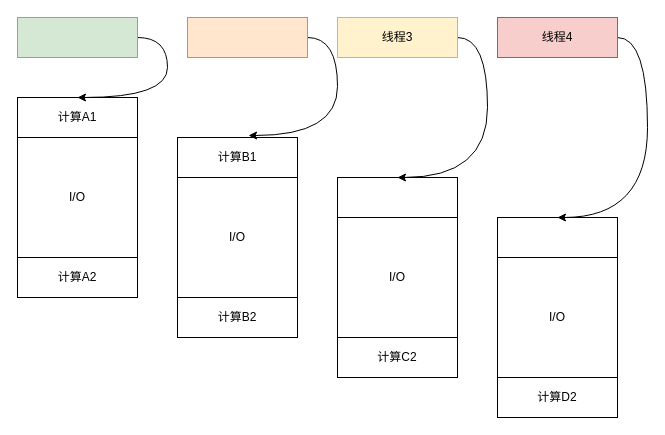
Image size: 665x435. Some labels were removed from this diagram. Each missing label, with the centre of its shape:
"线程1" belongs at point (77, 37).
"线程2" belongs at point (247, 37).
"计算C1" belongs at point (397, 197).
"计算D1" belongs at point (557, 237).
